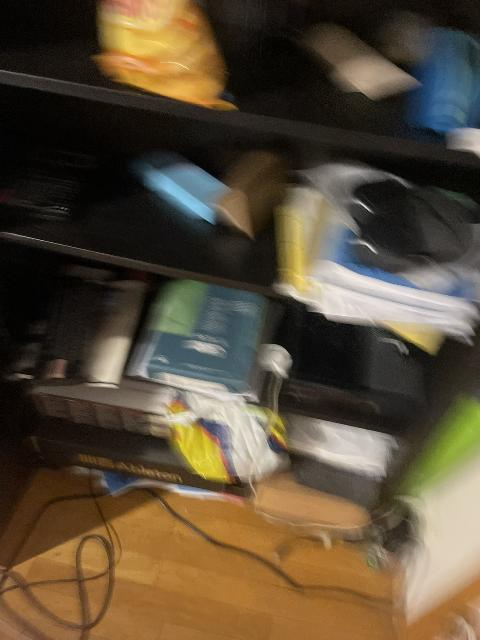Chio Hula Hoops Cheese 70g: (89, 1, 237, 110)
